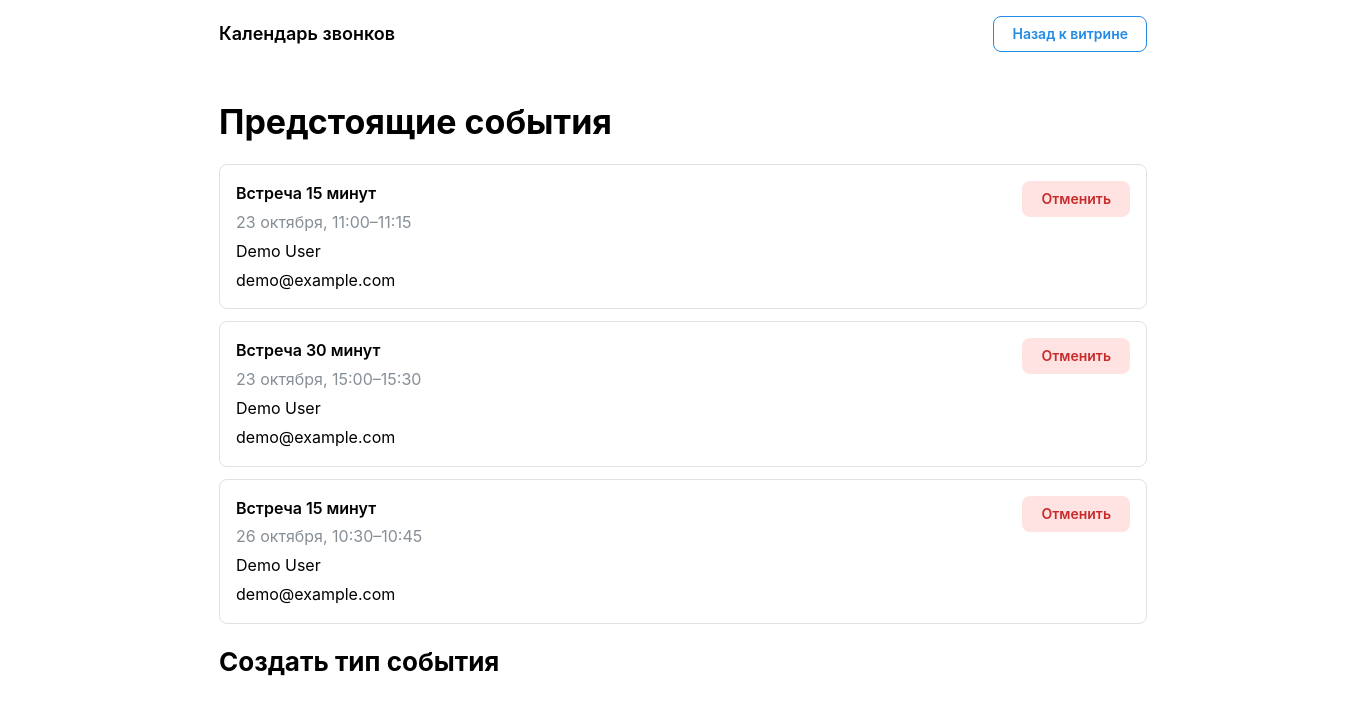
admin: подтверждение отмены удаляет запись и освобождает слот
The image size is (1366, 703).
Click the button "Отменить" in the row of "23 октября, 11:00–11:15" at [1076, 199], box x1=1022 y1=181 x2=1130 y2=217
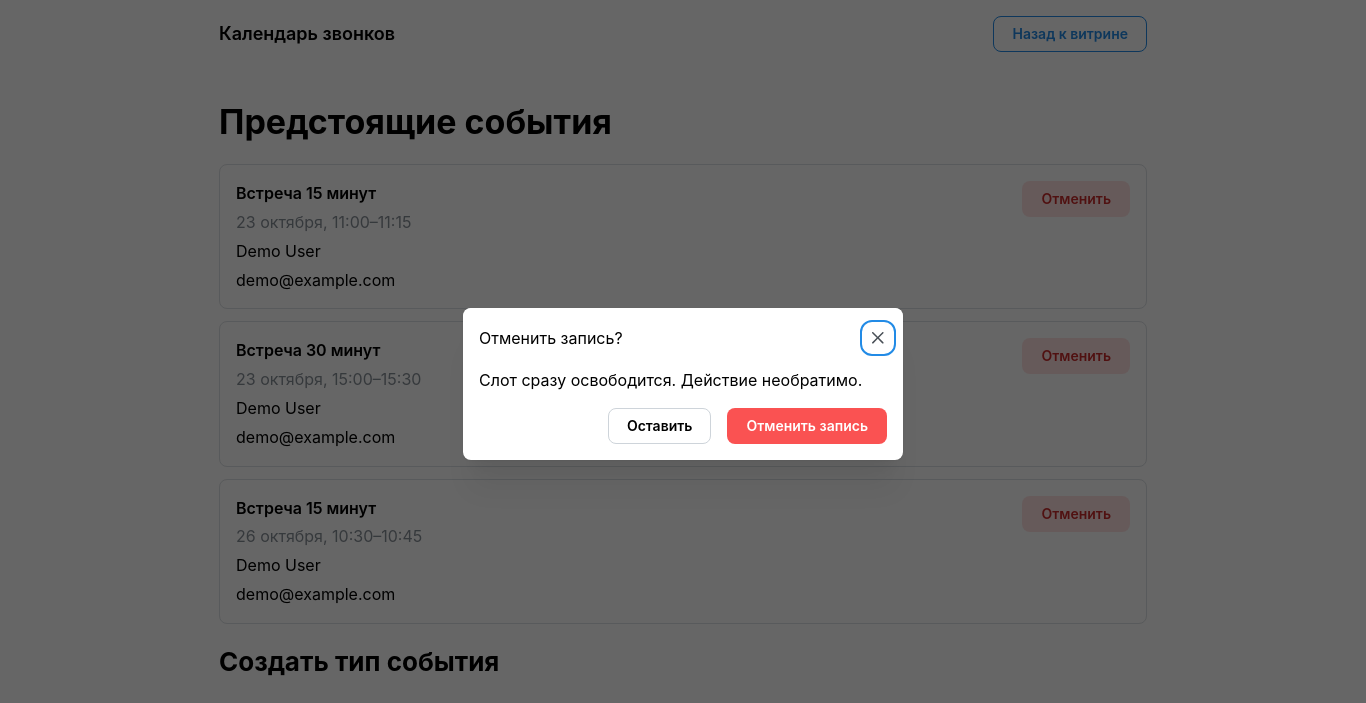
Click the button "Отменить запись" at [807, 426], box x1=727 y1=408 x2=887 y2=444
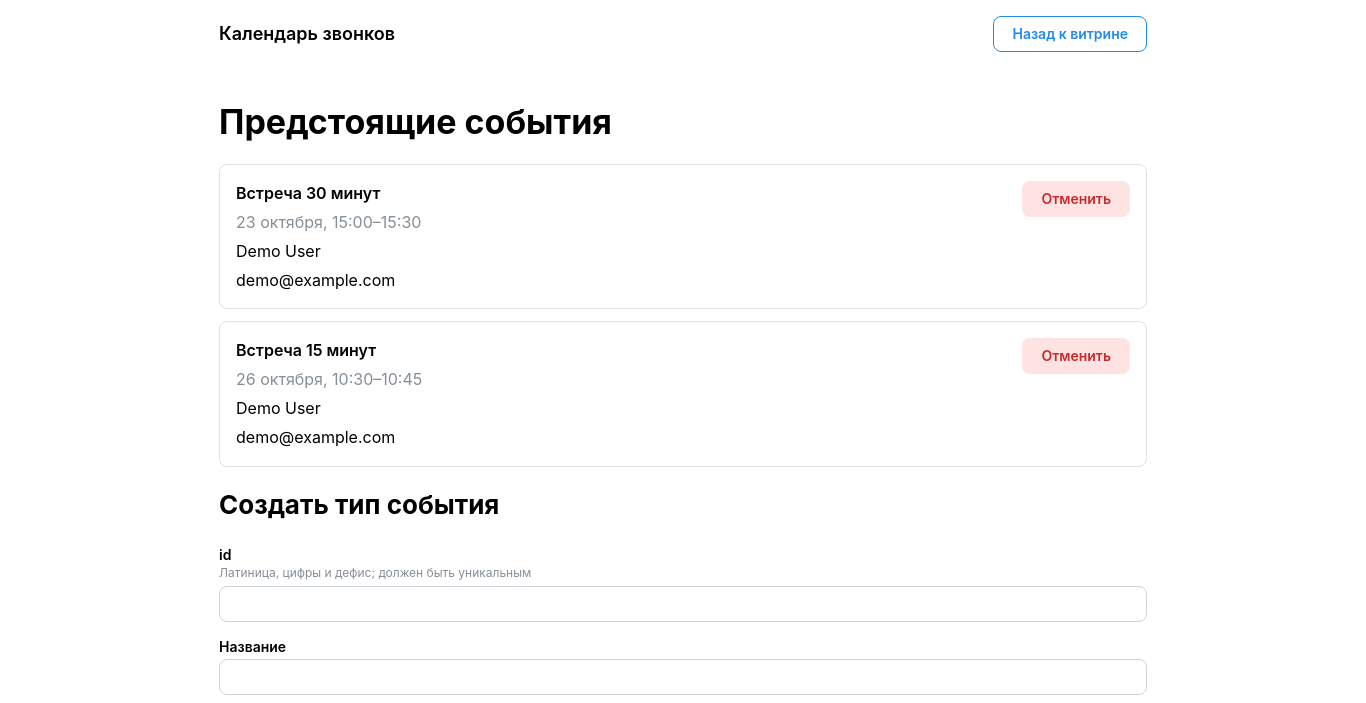
Check: the number of buttons "Отменить" is 2, box x1=1022 y1=181 x2=1130 y2=217; x1=1022 y1=338 x2=1130 y2=374
Check: the heading "Отменить запись?" is gone
